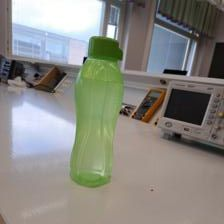bottle: (66, 35, 125, 188)
